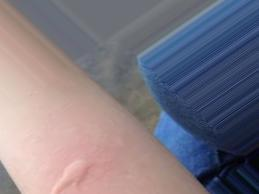Reupload: (46, 153, 93, 194)
